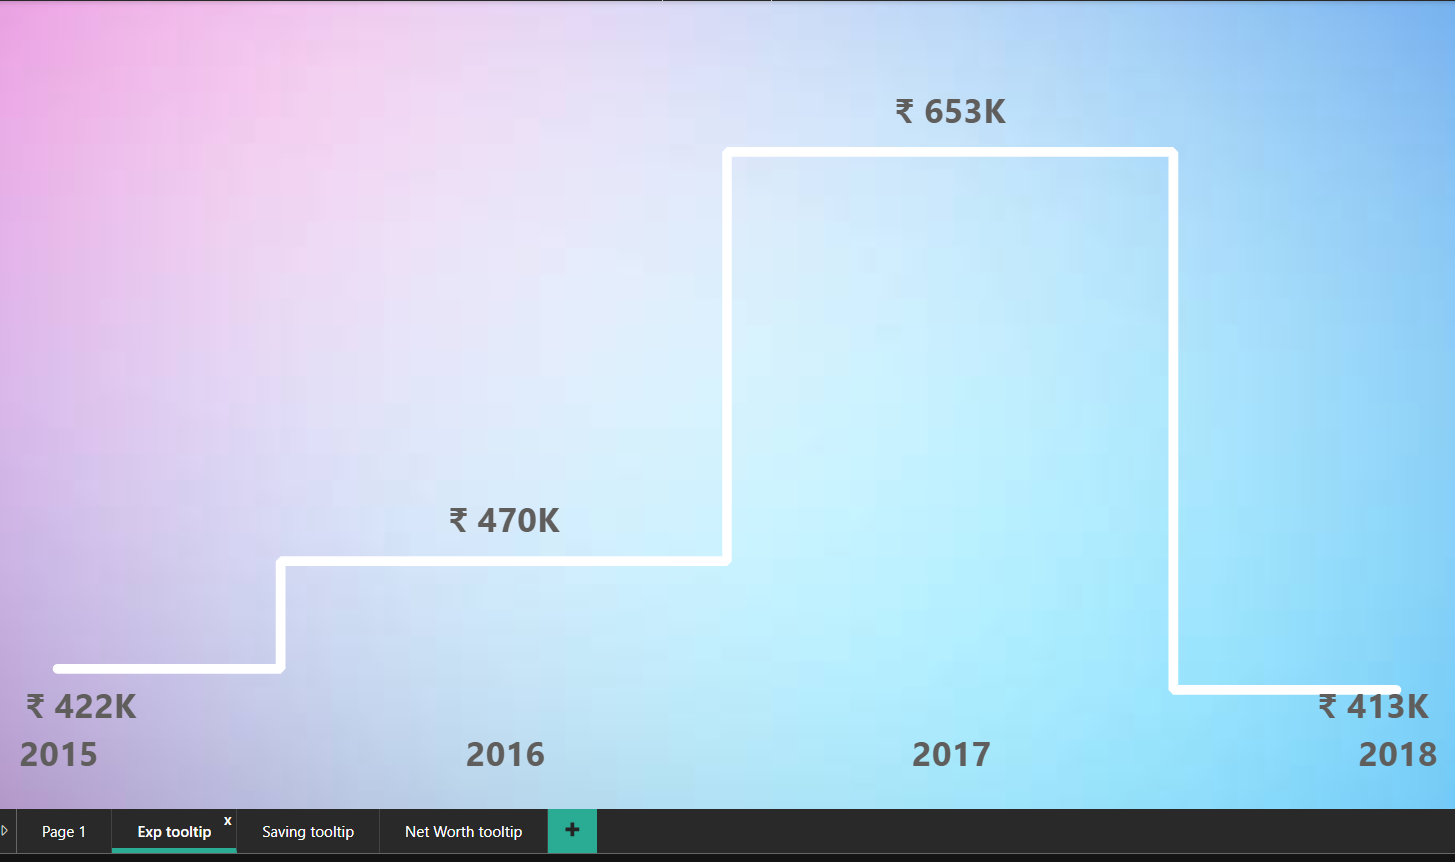

The page's visual inventory and layout, read from the dashboard file:
{"tool":"powerbi","page":{"name":"Exp tooltip","canvas":[450,250],"ordinal":1},"visuals":[{"type":"areaChart","fields":{"Y":["Daily Household Transactions.Expense"],"Category":["Daily Household Transactions.Year"]},"box":[0,0,450,250],"z":0}]}

Visuals, with their boxes on the page's 450x250 design canvas (x1, y1, x2, y2). These are canvas units, not pixel positions in the 1455x862 screenshot, which may show the page scaled, cropped or inside an application window:
areaChart - Daily Household Transactions.Expense x Daily Household Transactions.Year: x1=0, y1=0, x2=450, y2=250
